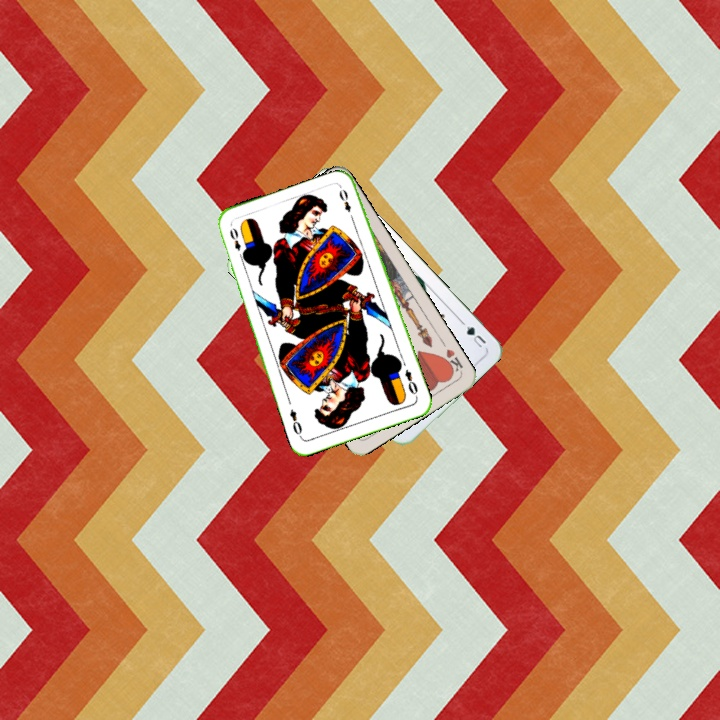EO: (401, 365, 420, 401), (226, 224, 243, 254)
GU: (457, 317, 489, 352)
HK: (438, 345, 466, 376)
